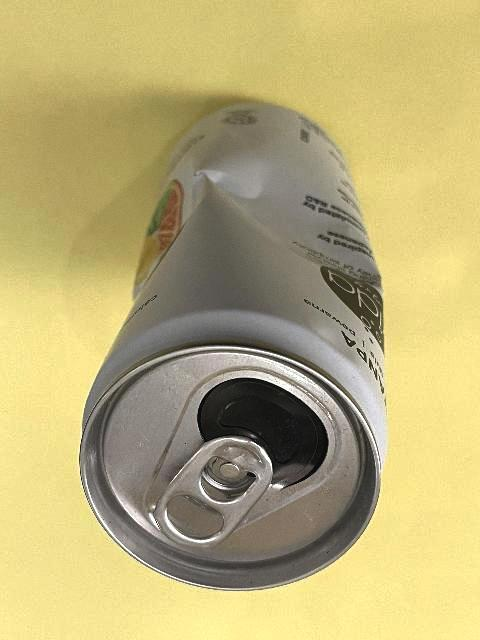drinkcan: (77, 97, 390, 595)
